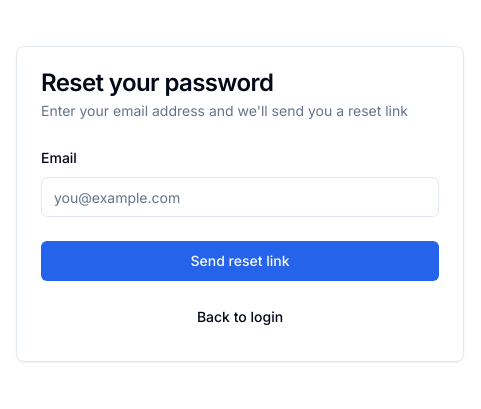
ResetPasswordPage › Password Reset Flow - Error Cases › should handle user not found error
Type "nonexistent@example.com" into the field labelled "Email" at (240, 197), box [41, 177, 439, 217]
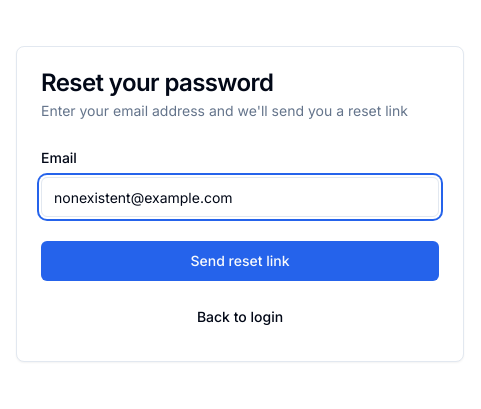
Click the button "Send reset link" at (240, 261), box [41, 241, 439, 281]
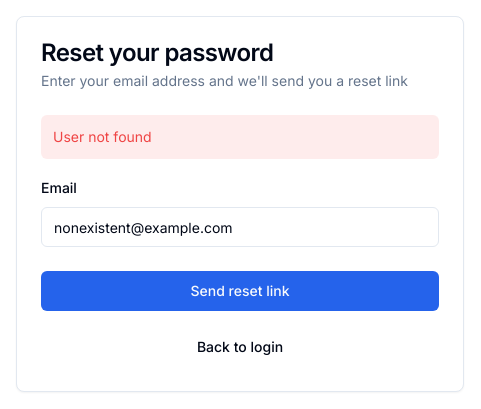
Now the text "User not found" is shown, box [41, 115, 439, 159]
